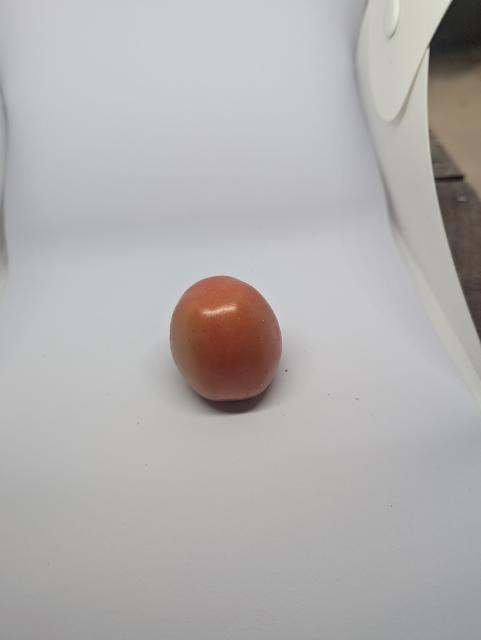red: (154, 265, 303, 418)
